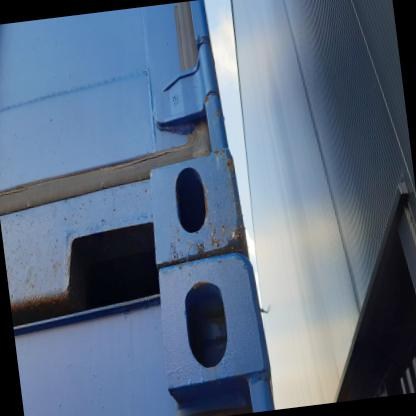CornerCasting: (149, 248, 271, 398), (143, 154, 251, 260)
